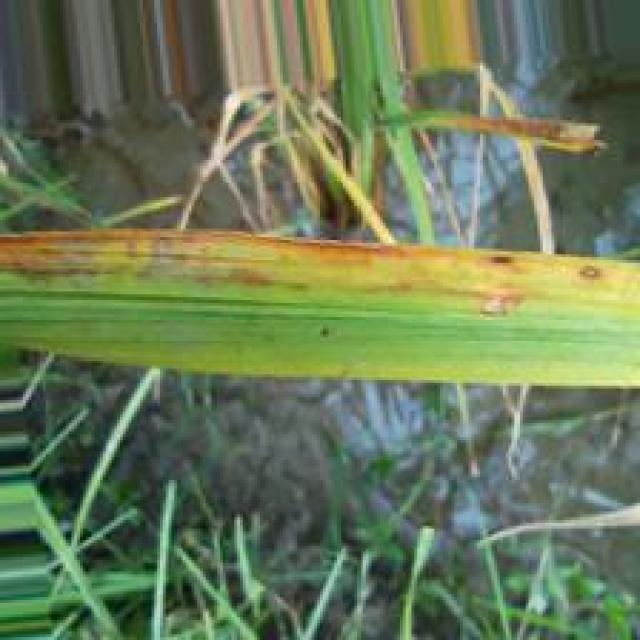Bacterial_Leaf_Blight: (0, 232, 609, 320)
